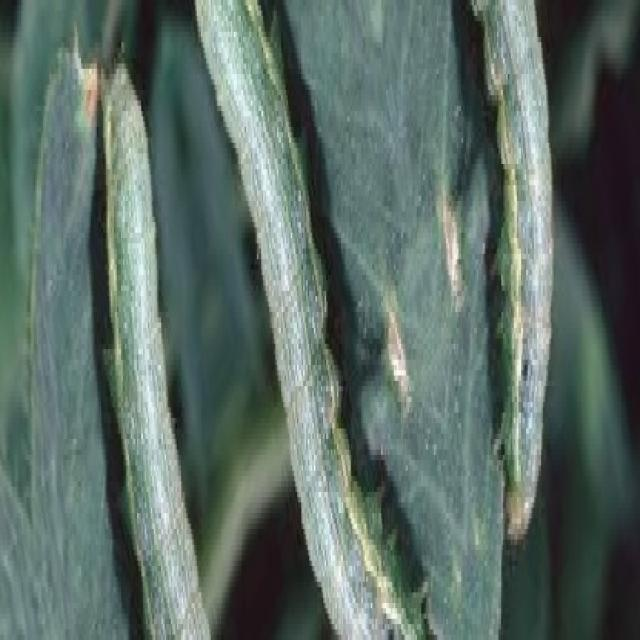armyworm: (190, 0, 426, 640), (104, 55, 208, 640), (463, 0, 557, 555)
